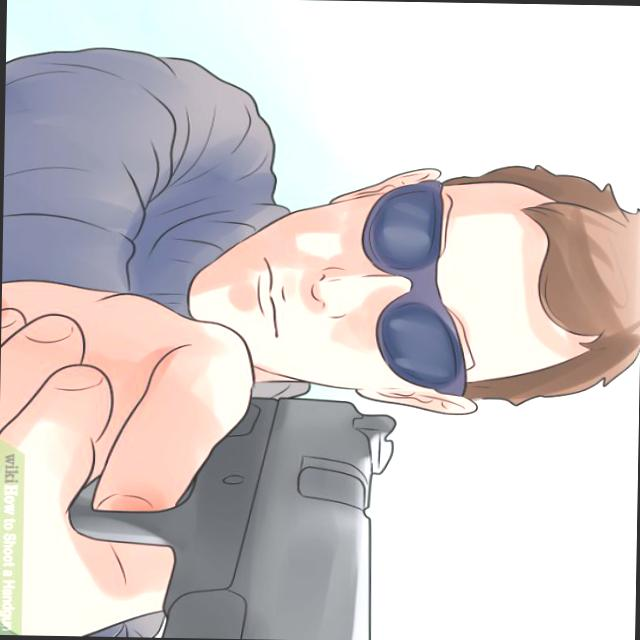handgun: (67, 362, 413, 639)
